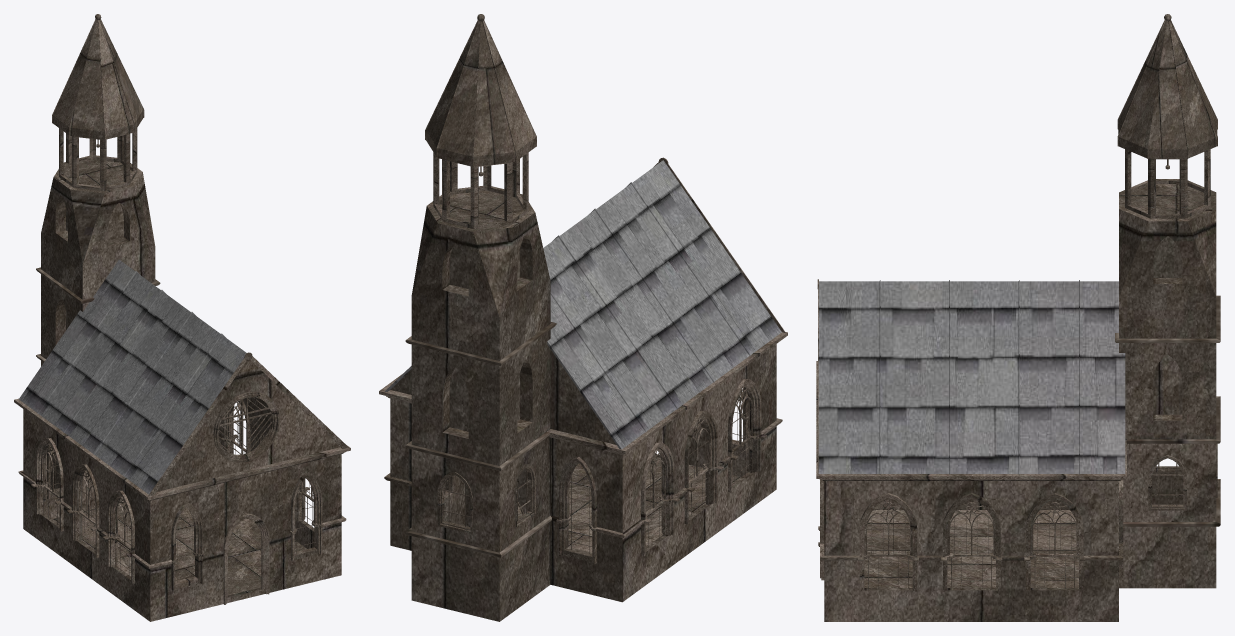
The model's file is toanha.fbx.
The picture shows the model from 3 angles, left to right: view 1: azimuth 30°, elevation 25°; view 2: azimuth 150°, elevation 25°; view 3: azimuth 270°, elevation 25°; orthographic projection. The views are drawn at different scales.
Parts seen in each view (by area): view 1: church_asset.001; view 2: church_asset.001; view 3: church_asset.001.
Boxes of the visible parts, box(x1,y1,x2,y2) form: church_asset.001: box(14, 14, 350, 621); church_asset.001: box(379, 14, 787, 621); church_asset.001: box(816, 14, 1220, 621).
Size of the model in its own units: 4713 by 10460 by 6927.
